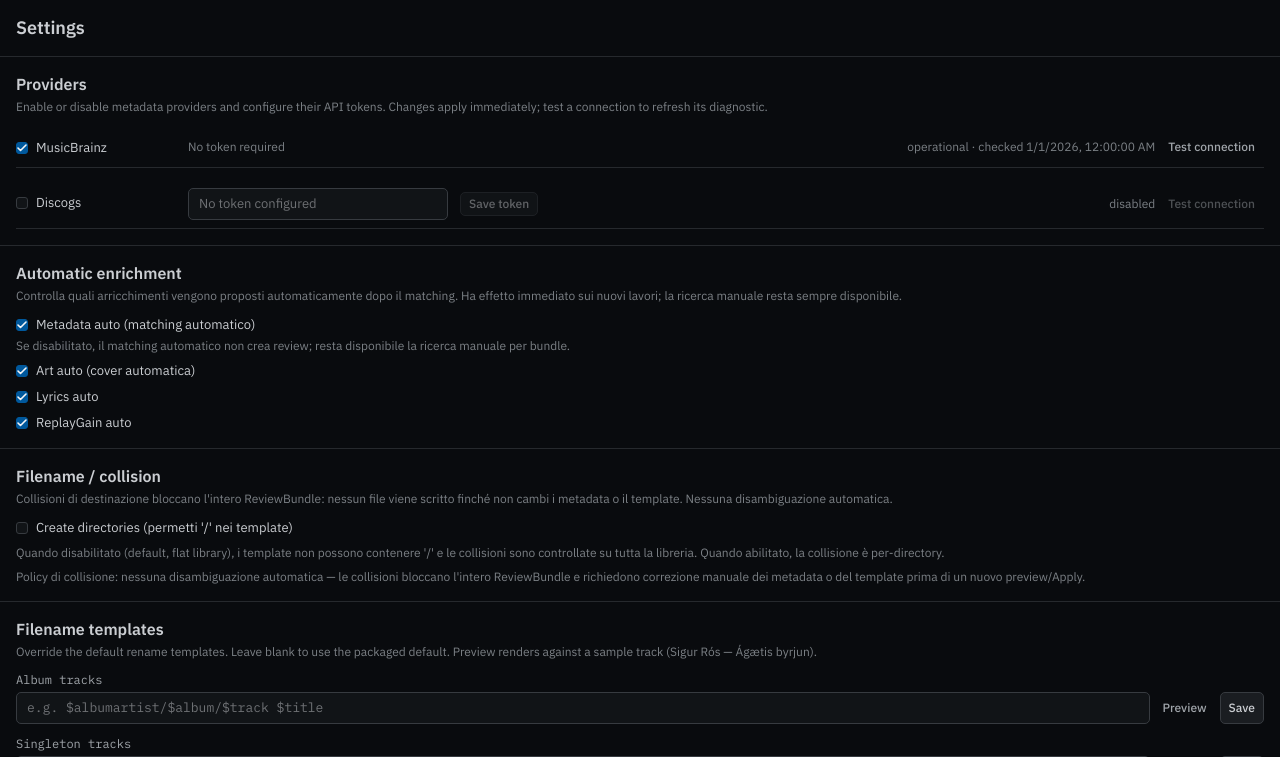
Test case: Settings › a template preview error renders the structural error, not a crash
Check: the text "Album tracks" is shown, box x1=16 y1=672 x2=102 y2=687
Step 1. Click the 1st button "Preview" → (1185, 708), box x1=1154 y1=692 x2=1216 y2=724
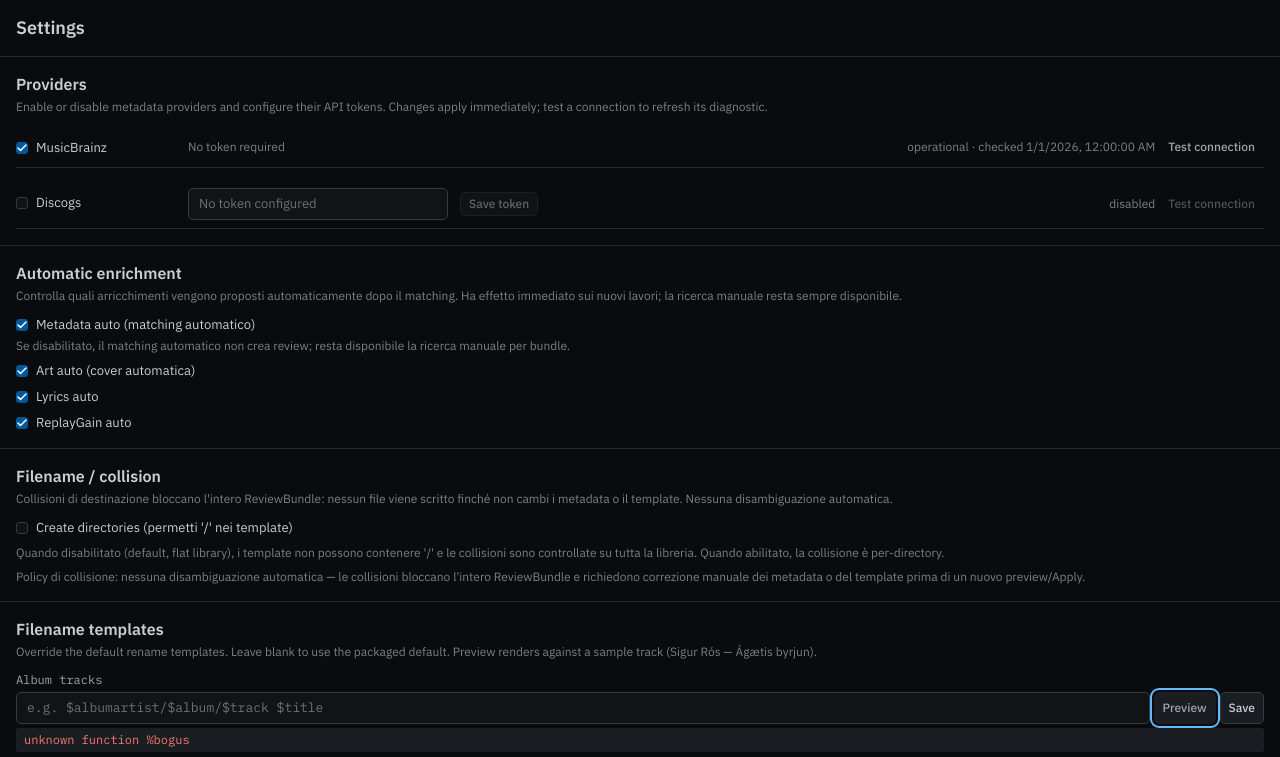
Check: the text "unknown function %bogus" is shown, box x1=16 y1=728 x2=1264 y2=752
